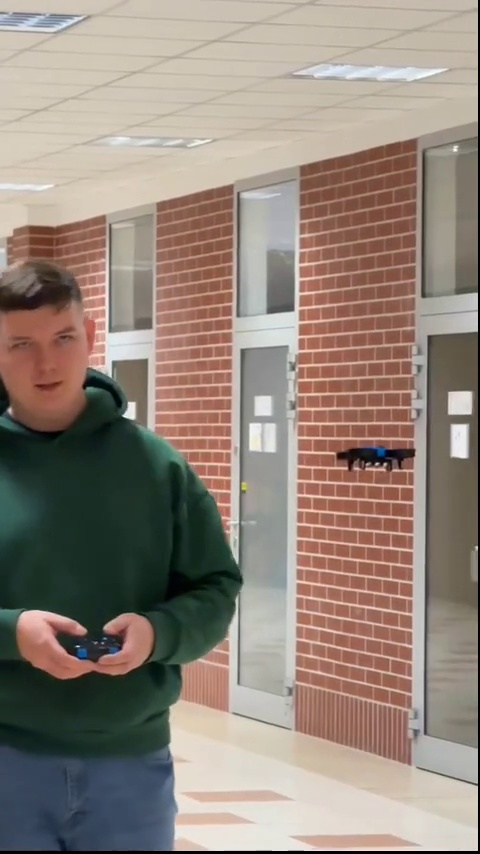drone: (331, 443, 419, 472)
no vest: (0, 252, 248, 854)
